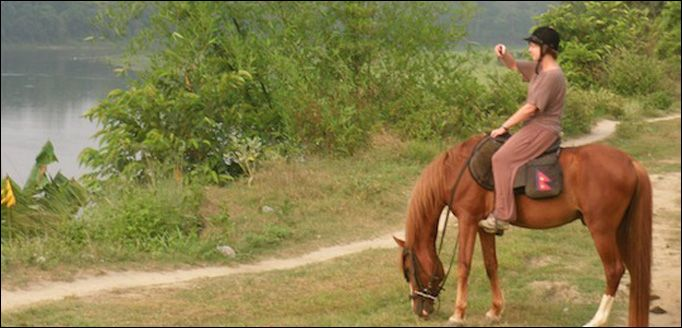human: (475, 22, 568, 252)
